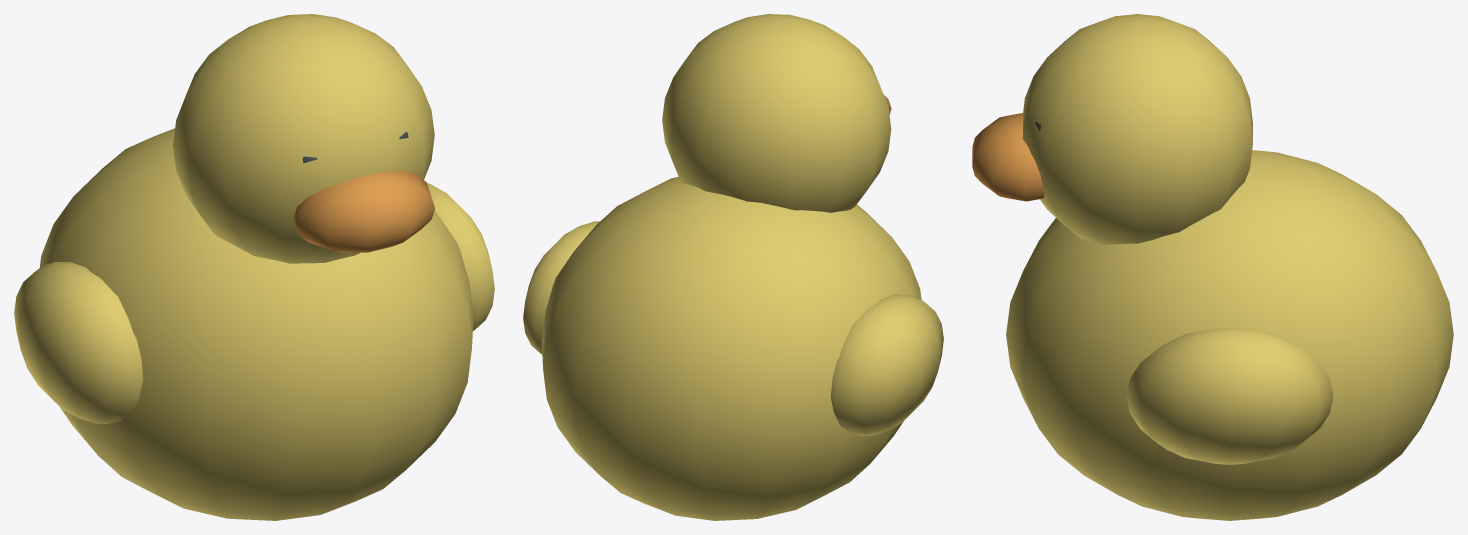
The model's file is duck-base.glb.
The picture shows the model from 3 angles, left to right: view 1: azimuth 30°, elevation 25°; view 2: azimuth 150°, elevation 25°; view 3: azimuth 270°, elevation 25°; orthographic projection. The views are drawn at different scales.
Visible parts, largest first — view 1: Duck; view 2: Duck; view 3: Duck.
Part boxes in pixels (x1,y1,x2,y2): Duck: (14, 14, 494, 520); Duck: (523, 14, 943, 520); Duck: (972, 14, 1453, 520).
Bounding box in the file's own units: 1.25 × 1.42 × 1.3.
